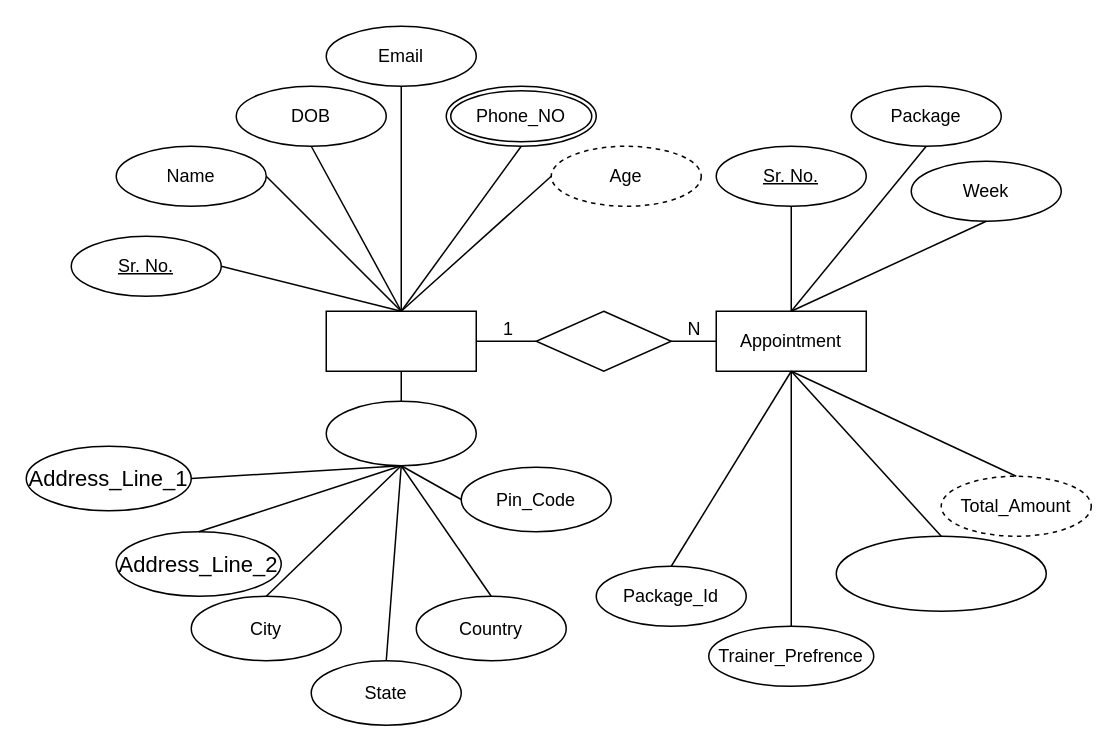
Some shapes in this 1118 by 752 pixel diagram are drawn without their labels. The shapes that lost their labels are listed below. From the top down, each one's centre as x and y in pixels, then its label:
At point 400,340: "User".
At point 603,340: "Has".
At point 400,433: "Address".
At point 940,573: "Physiotherapist requirement".
